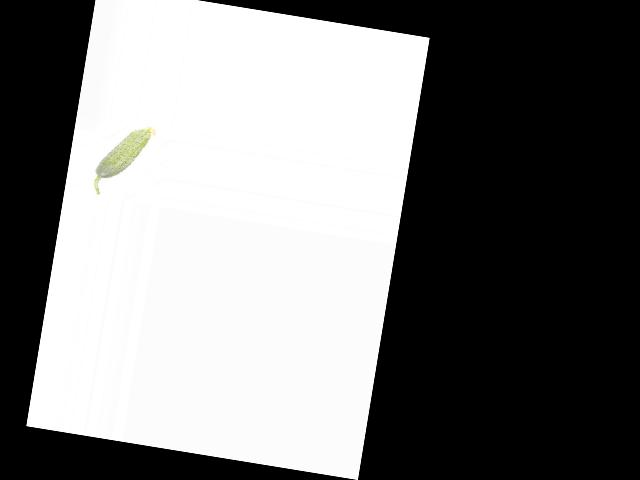cucumber: (91, 118, 157, 201)
